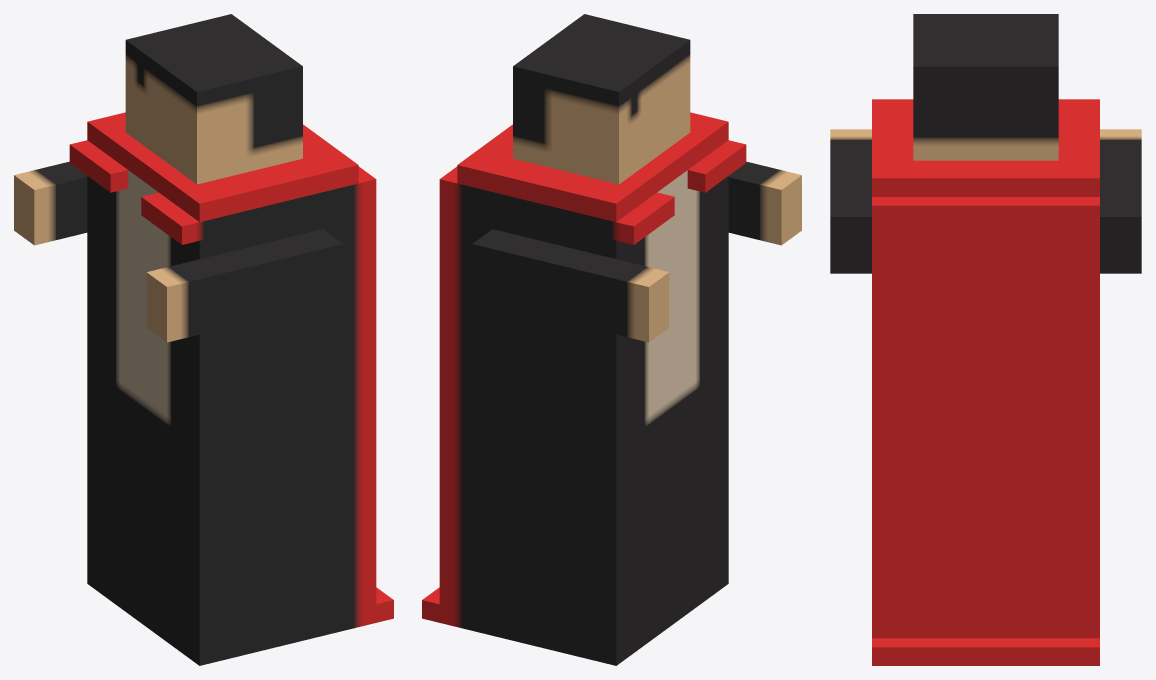
Rendered from Vampire.fbx.
3 views of the same model, side by side, from view 1: azimuth 30°, elevation 25°; view 2: azimuth 150°, elevation 25°; view 3: azimuth 270°, elevation 25° (orthographic).
Visible parts, largest first — view 1: Matrix; view 2: Matrix; view 3: Matrix.
Boxes of the visible parts, box(x1,y1,x2,y2) form: Matrix: box(14, 14, 393, 665); Matrix: box(422, 14, 801, 665); Matrix: box(830, 14, 1141, 665).
Bounding box in the file's own units: 14 × 30 × 15.
Materials: 1 (1 with a texture image).
